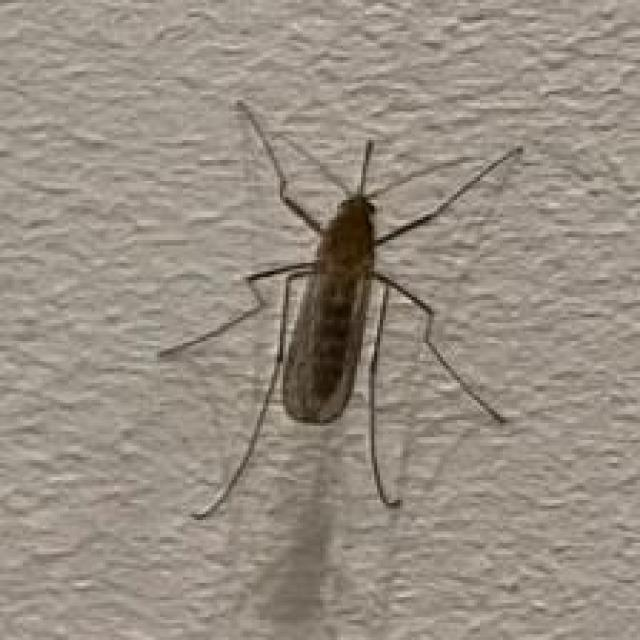Culex: (156, 97, 527, 523)
